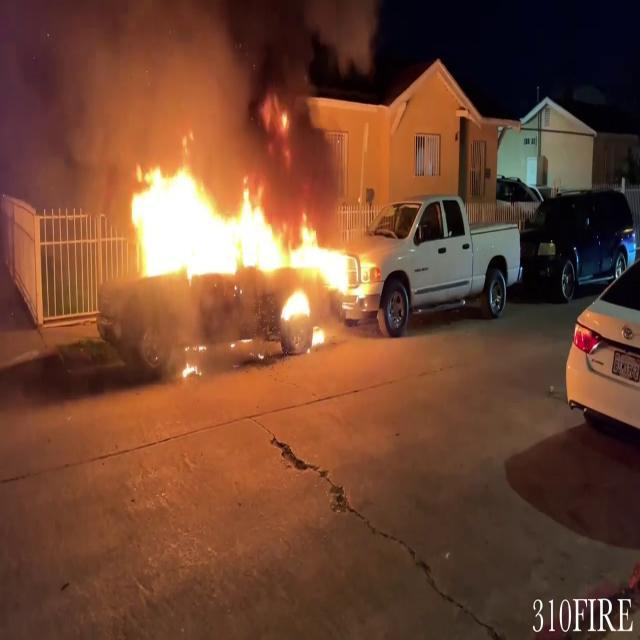Fire: (121, 150, 376, 328)
Smoke: (0, 0, 278, 200)
